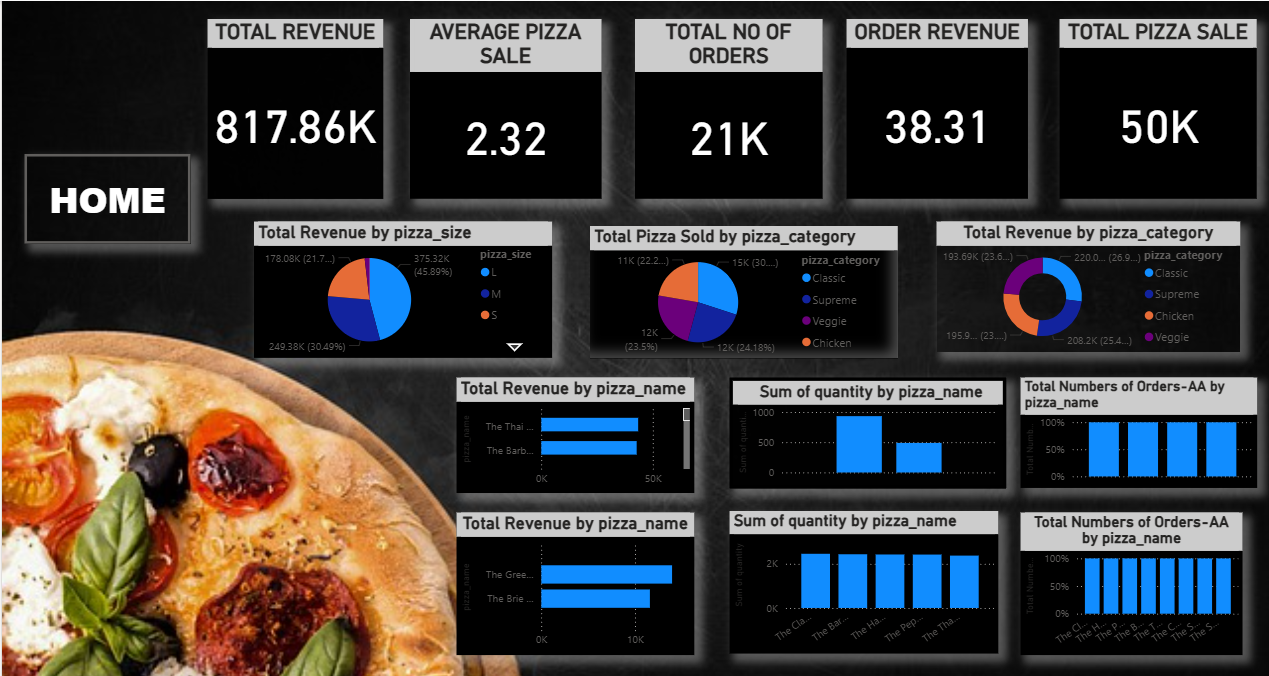

This screenshot's page, from the dashboard's own definition file:
{"tool":"powerbi","page":{"name":"DASHBOARD","canvas":[1500,800],"ordinal":1},"visuals":[{"type":"card","title":"TOTAL REVENUE","fields":{"Values":["pizza_sales.Total Revenue"]},"box":[242.7,21,207.7,212.4],"z":0},{"type":"card","title":"TOTAL NO OF ORDERS","fields":{"Values":["pizza_sales.Total Numbers of Orders-AA"]},"box":[749.2,21,221.7,212.4],"z":1000},{"type":"card","title":"ORDER REVENUE","fields":{"Values":["pizza_sales.Average Order Revenue"]},"box":[999,21,214.7,212.4],"z":2000},{"type":"card","title":"AVERAGE PIZZA SALE","fields":{"Values":["pizza_sales.Average Pizza Sale"]},"box":[483.2,21,226.4,212.4],"z":3000},{"type":"card","title":"TOTAL PIZZA SALE","fields":{"Values":["pizza_sales.Total Pizza Sold"]},"box":[1251.1,21,233.4,212.4],"z":4000},{"type":"pieChart","fields":{"Y":["pizza_sales.Total Revenue"],"Category":["pizza_sales.pizza_size"]},"box":[298.8,261.4,352.4,161.1],"z":5000},{"type":"pieChart","fields":{"Y":["pizza_sales.Total Pizza Sold"],"Category":["pizza_sales.pizza_category"]},"box":[695.6,266.1,364.1,156.4],"z":6000},{"type":"donutChart","fields":{"Y":["pizza_sales.Total Revenue"],"Category":["pizza_sales.pizza_category"]},"box":[1106.3,261.4,359.4,154],"z":7000},{"type":"barChart","fields":{"Y":["pizza_sales.Total Revenue"],"Category":["pizza_sales.pizza_name"]},"box":[538.5,445.9,281.3,136.9],"z":8000},{"type":"barChart","fields":{"Y":["pizza_sales.Total Revenue"],"Category":["pizza_sales.pizza_name"]},"box":[538.5,605.1,281.3,168.4],"z":9000},{"type":"columnChart","fields":{"Category":["pizza_sales.pizza_name"],"Y":["Sum(pizza_sales.quantity)"]},"box":[860.4,603.2,318.3,168.4],"z":10000},{"type":"columnChart","fields":{"Category":["pizza_sales.pizza_name"],"Y":["Sum(pizza_sales.quantity)"]},"box":[860.4,445.9,327.5,131.4],"z":11000},{"type":"hundredPercentStackedColumnChart","fields":{"Category":["pizza_sales.pizza_name"],"Y":["pizza_sales.Total Numbers of Orders-AA"]},"box":[1204.6,605.1,262.8,168.4],"z":12000},{"type":"hundredPercentStackedColumnChart","fields":{"Category":["pizza_sales.pizza_name"],"Y":["pizza_sales.Total Numbers of Orders-AA"]},"box":[1204.4,445.8,280.1,130.7],"z":13000},{"type":"actionButton","box":[27.1,180.5,196.3,106.1],"z":14000}]}

Visuals, with their boxes in screenshot pixels (x1, y1, x2, y2), scaled from the page's 1500x800 canvas onto the 1269x676 screenshot:
"TOTAL REVENUE" card: rect(205, 18, 381, 197)
"TOTAL NO OF ORDERS" card: rect(634, 18, 821, 197)
"ORDER REVENUE" card: rect(845, 18, 1027, 197)
"AVERAGE PIZZA SALE" card: rect(409, 18, 600, 197)
"TOTAL PIZZA SALE" card: rect(1058, 18, 1256, 197)
pieChart - pizza_sales.Total Revenue x pizza_sales.pizza_size: rect(253, 221, 551, 357)
pieChart - pizza_sales.Total Pizza Sold x pizza_sales.pizza_category: rect(588, 225, 897, 357)
donutChart - pizza_sales.Total Revenue x pizza_sales.pizza_category: rect(936, 221, 1240, 351)
barChart - pizza_sales.Total Revenue x pizza_sales.pizza_name: rect(456, 377, 694, 492)
barChart - pizza_sales.Total Revenue x pizza_sales.pizza_name: rect(456, 511, 694, 654)
columnChart - pizza_sales.pizza_name x Sum(pizza_sales.quantity): rect(728, 510, 997, 652)
columnChart - pizza_sales.pizza_name x Sum(pizza_sales.quantity): rect(728, 377, 1005, 488)
hundredPercentStackedColumnChart - pizza_sales.pizza_name x pizza_sales.Total Numbers of Orders-AA: rect(1019, 511, 1241, 654)
hundredPercentStackedColumnChart - pizza_sales.pizza_name x pizza_sales.Total Numbers of Orders-AA: rect(1019, 377, 1256, 487)
actionButton: rect(23, 153, 189, 242)
